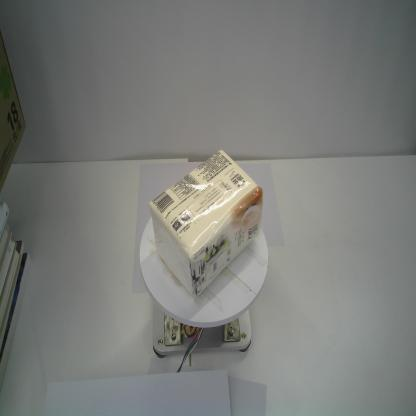Tissue: (149, 148, 264, 299)
